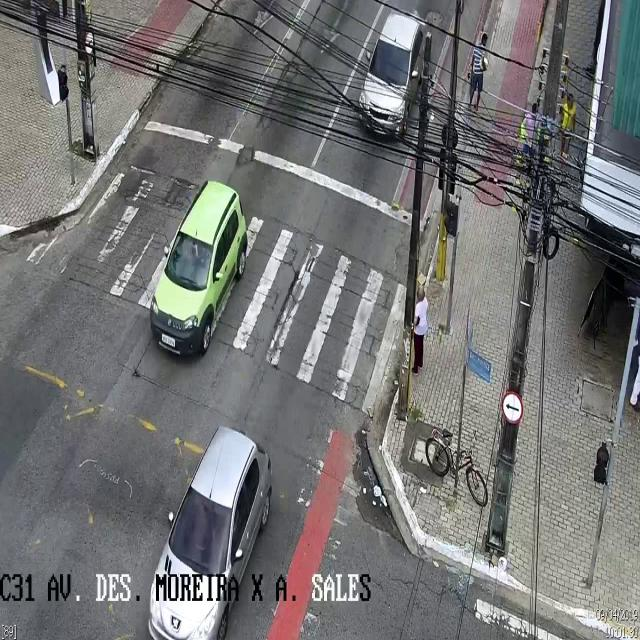Car: (147, 425, 270, 635), (149, 178, 247, 359), (359, 11, 424, 141)
